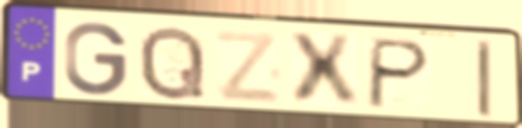G: (62, 20, 131, 98)
I: (474, 39, 494, 120)
P: (363, 36, 434, 112)
Q: (136, 23, 208, 103)
X: (284, 32, 363, 109)
Z: (212, 29, 283, 107)
